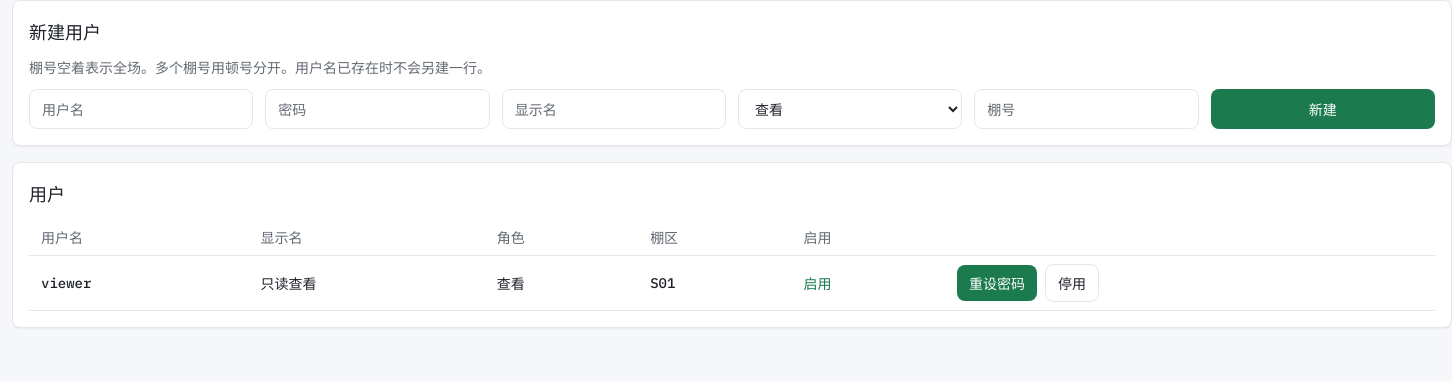
Test: UsersView › shows 用户名已存在 and keeps the list when create conflicts
The image size is (1452, 381).
In the field named "用户名": [141, 109] box [29, 89, 253, 129], type "viewer"
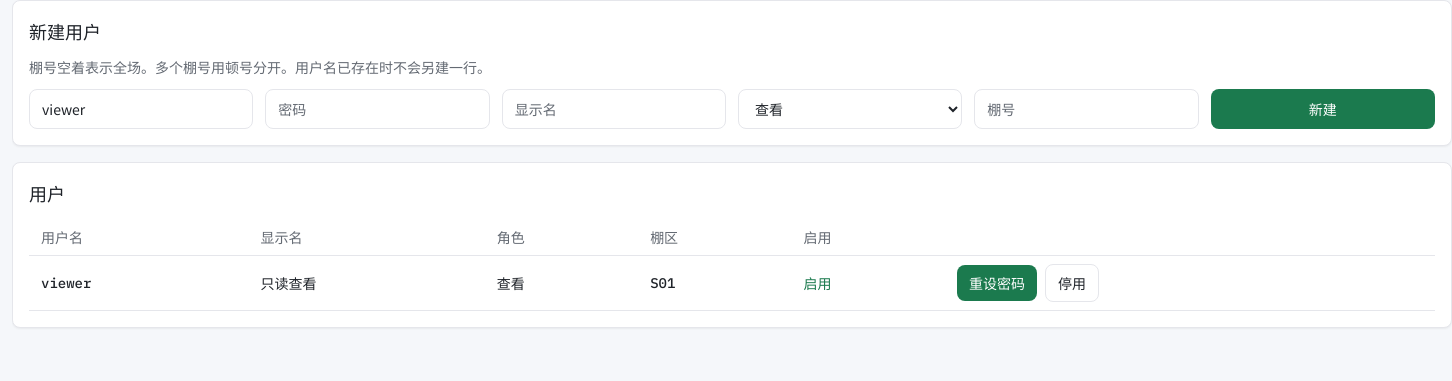
In the password field named "密码": [377, 109] box [265, 89, 490, 129], type "Other@123456"
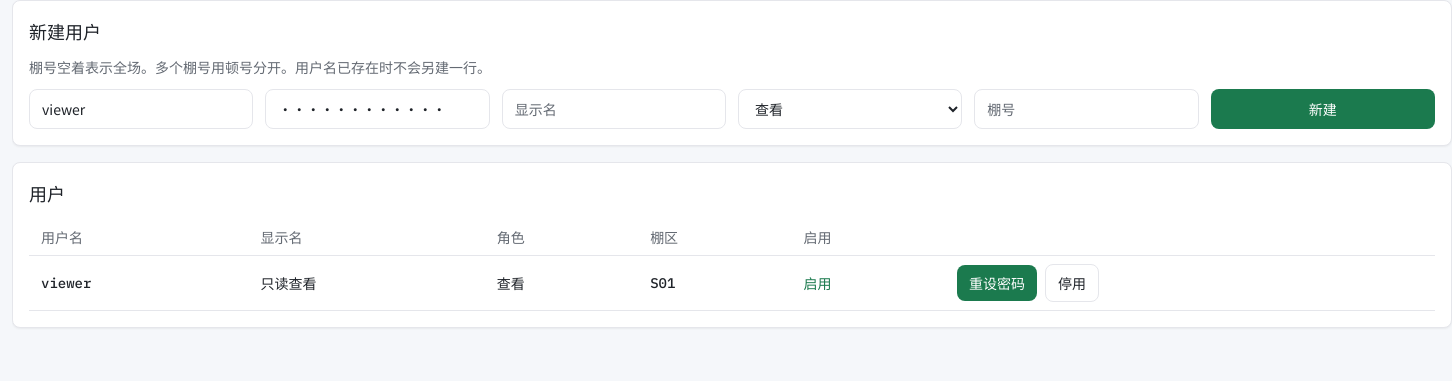
In the field named "显示名": [614, 109] box [502, 89, 726, 129], type "另一个"
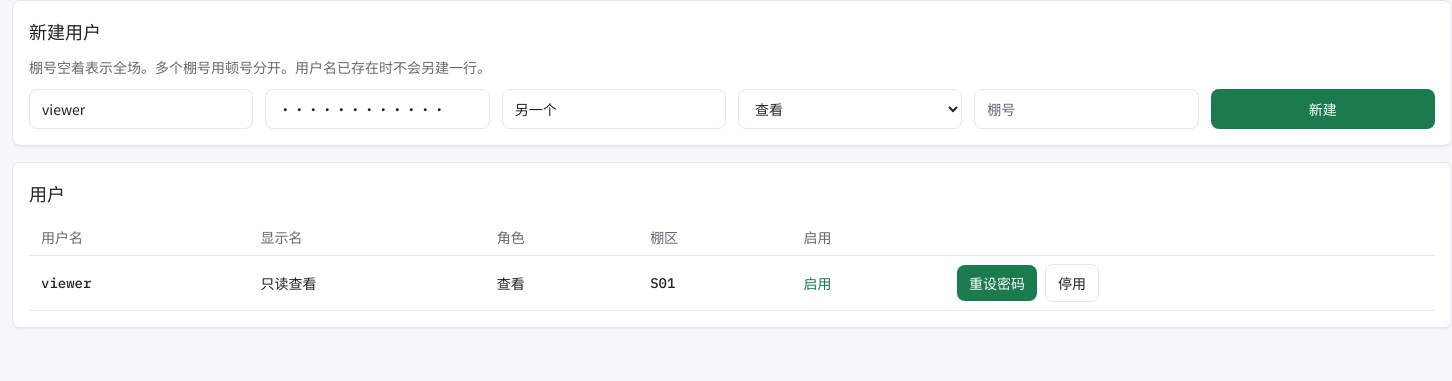
Submit the form with test id "user-create-form", box [12, 0, 1451, 146]
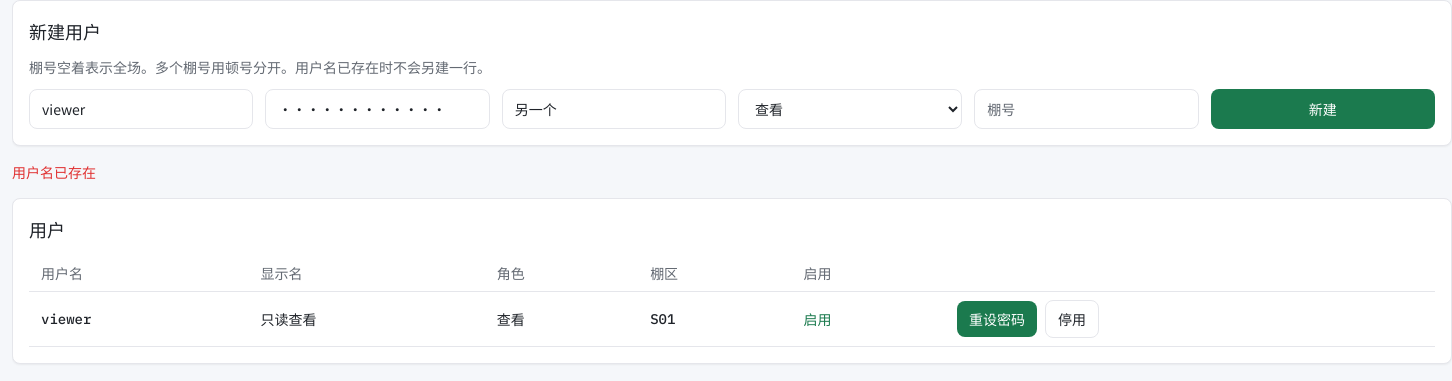
Expected: the text "viewer" is shown, [29, 292, 249, 346]
Expected: the text with test id "user-action-error" reads "用户名已存在", [12, 162, 96, 182]
